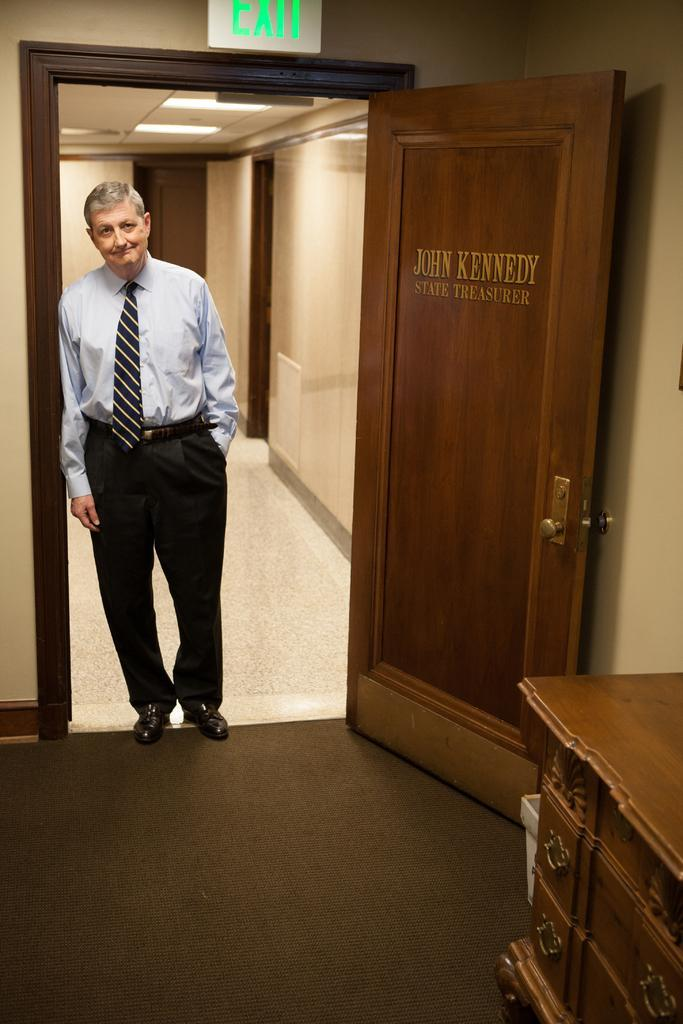door: (370, 88, 616, 828)
handle: (542, 468, 579, 563)
